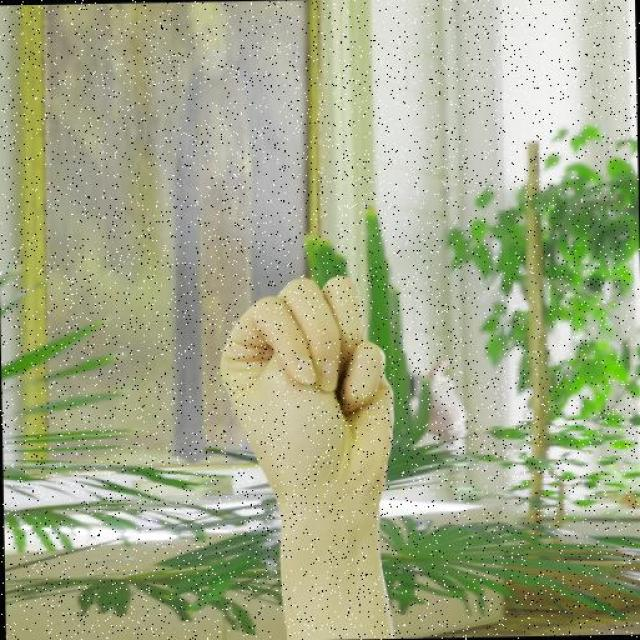M: (215, 272, 398, 506)
